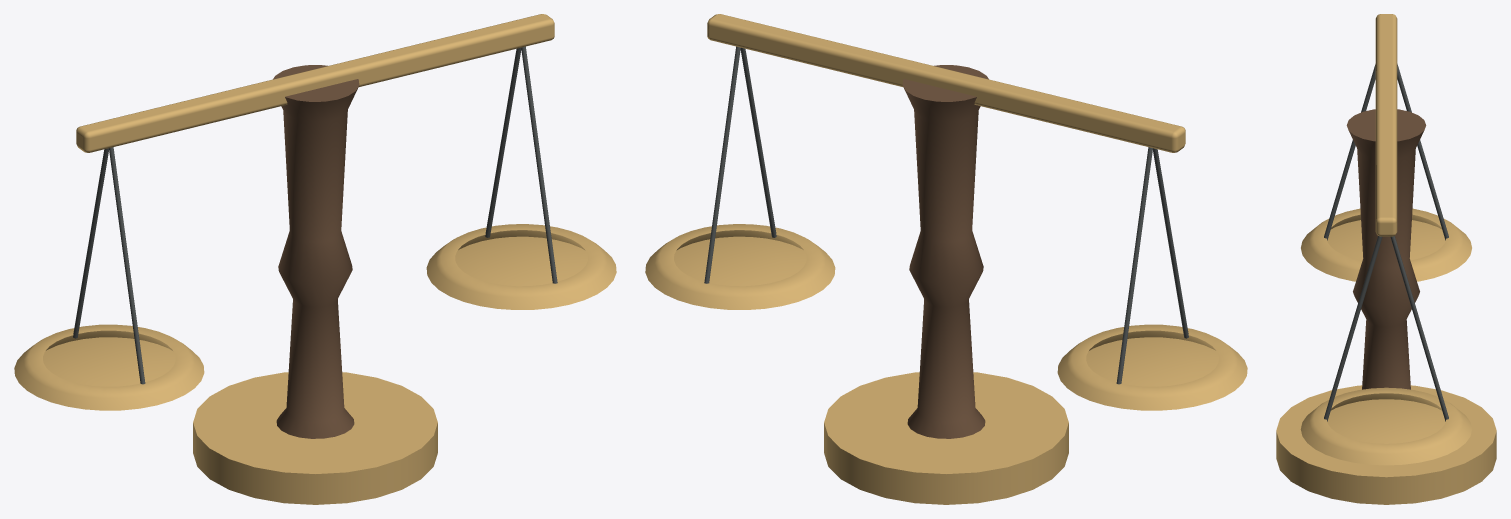
File: adventurers-tavern-and-guild-hall-coin-scale-2ad71989__24745.glb
3 renders of one model, left to right at view 1: azimuth 30°, elevation 25°; view 2: azimuth 150°, elevation 25°; view 3: azimuth 270°, elevation 25°, orthographic. The views are drawn at different scales.
Visible parts, largest first — view 1: coin-scale; view 2: coin-scale; view 3: coin-scale.
Part boxes in pixels (x1,y1,x2,y2): coin-scale: [14, 14, 616, 504]; coin-scale: [645, 14, 1247, 504]; coin-scale: [1276, 14, 1496, 504].
Bounding box in the file's own units: 0.98 × 0.6175 × 0.36.
